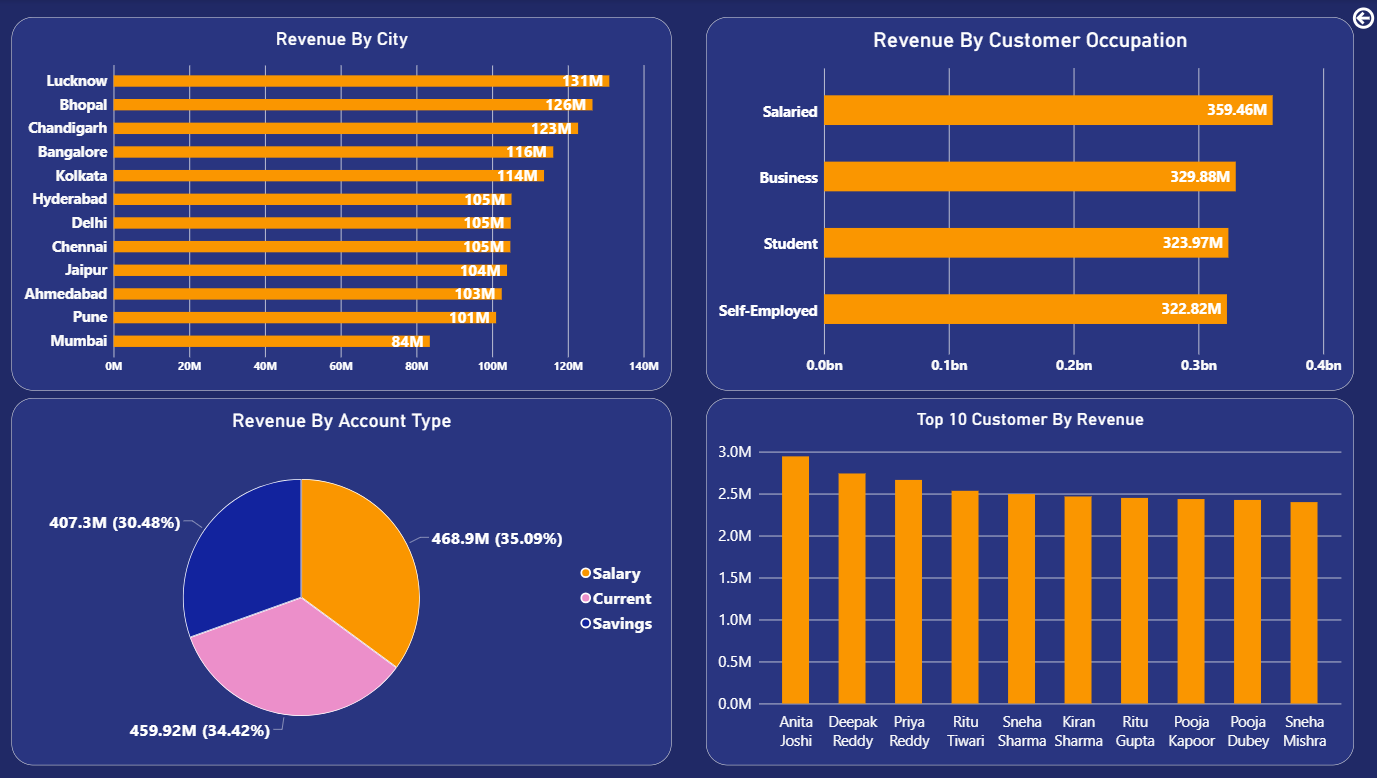

The dashboard page shown, as its layout file describes it:
{"tool":"powerbi","page":{"name":"Customers","canvas":[1920,1080],"ordinal":3},"visuals":[{"type":"clusteredBarChart","title":"Revenue By City","fields":{"Category":["public revenue_by_city.city"],"Y":["Sum(public revenue_by_city.revenue)"]},"box":[26.9,24.8,909.2,514.5],"z":0},{"type":"clusteredBarChart","title":"Revenue By Customer Occupation","fields":{"Category":["public revenue_by_customer_occupation.occupation"],"Y":["Sum(public revenue_by_customer_occupation.revenue)"]},"box":[983.6,24.8,892.7,514.5],"z":1000},{"type":"pieChart","title":"Revenue By Account Type","fields":{"Category":["public revenue_by_account_type.account_type"],"Y":["Sum(public revenue_by_account_type.revenue)"]},"box":[26.9,549.7,909.2,506.3],"z":2000},{"type":"columnChart","title":"Top 10 Customer By Revenue","fields":{"Category":["public top_customer_by_revenue.name"],"Y":["Sum(public top_customer_by_revenue.revenue)"]},"box":[983.6,549.7,892.7,506.3],"z":3000},{"type":"actionButton","box":[1859.7,0,59.9,49.6],"z":3001}]}

Visuals, with their boxes in screenshot pixels (x1, y1, x2, y2), scaled from the page's 1920x1080 canvas onto the 1377x778 screenshot:
"Revenue By City" clusteredBarChart: BBox(19, 18, 671, 388)
"Revenue By Customer Occupation" clusteredBarChart: BBox(705, 18, 1346, 388)
"Revenue By Account Type" pieChart: BBox(19, 396, 671, 761)
"Top 10 Customer By Revenue" columnChart: BBox(705, 396, 1346, 761)
actionButton: BBox(1334, 0, 1376, 36)
